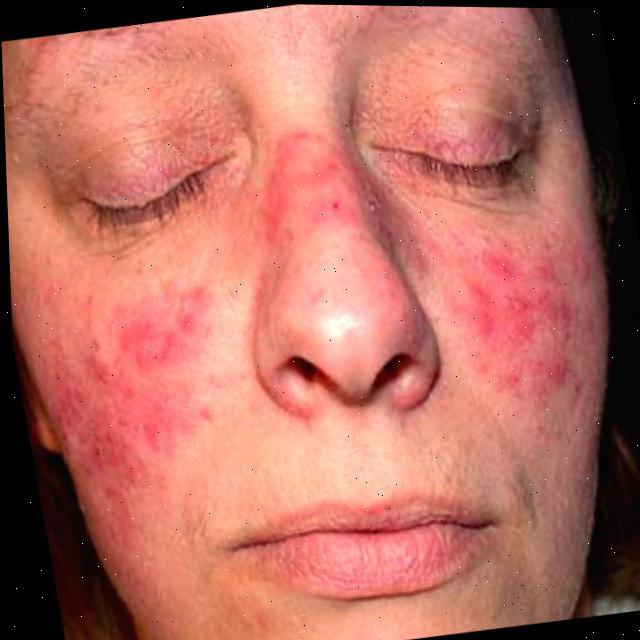Rosacea: (63, 291, 222, 454), (463, 242, 585, 388), (244, 132, 377, 257)
